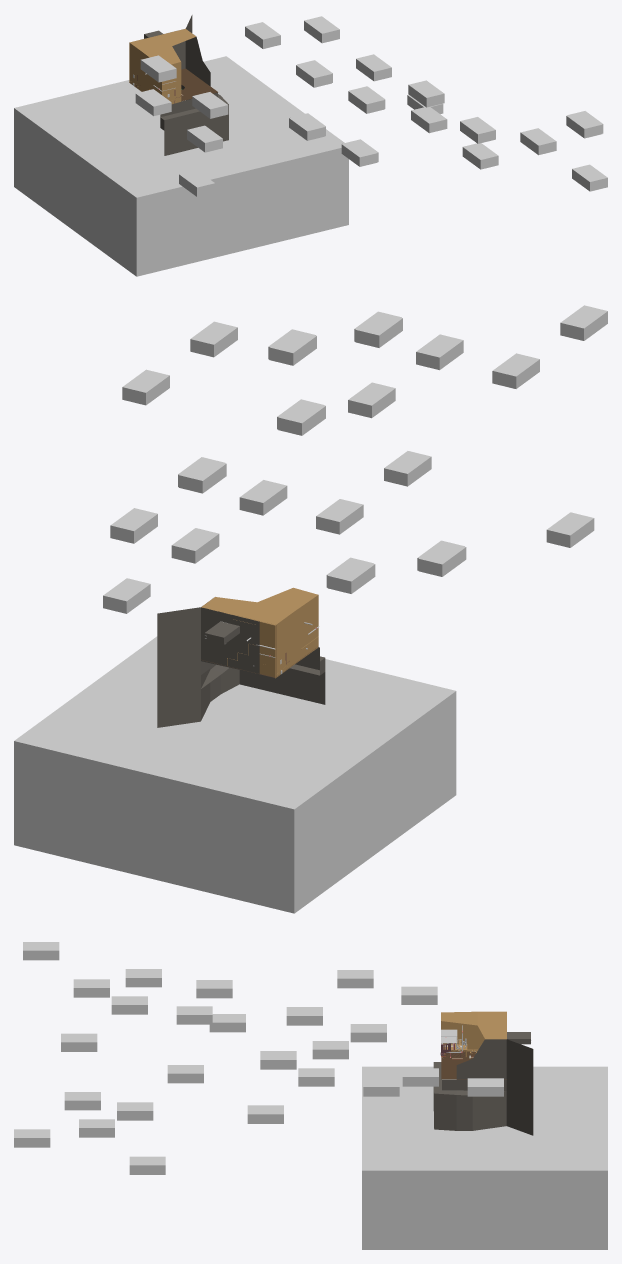
File: thebigroom.fbx
3 renders of one model, top to bottom at view 1: azimuth 30°, elevation 25°; view 2: azimuth 150°, elevation 25°; view 3: azimuth 270°, elevation 25°, orthographic. The views are drawn at different scales.
Visible parts, largest first — view 1: Cube.159, Plane.010, Plane.011, Cube.249, Cube.233, Cube.241, Cube.255, Cube.171, Cube.236, Cube.245, Cube.251, Cube.253 (+11 smaller); view 2: Cube.159, Plane.010, Plane.011, Cube.235, Cube.234, Cube.240, Cube.171, Cube.241, Cube.244, Cube.247, Cube.243, Cube.245 (+11 smaller); view 3: Cube.159, Plane.010, Plane.011, Cube.171, Cube.235, Cube.237, Cube.238, Cube.239, Cube.240, Cube.241, Cube.242, Cube.243 (+17 smaller).
Boxes of the visible parts, x1,y1,x2,y2 form: Cube.159: (14, 56, 348, 276); Plane.010: (144, 15, 228, 155); Plane.011: (129, 28, 195, 104); Cube.249: (566, 111, 602, 138); Cube.233: (192, 92, 228, 118); Cube.241: (135, 89, 171, 116); Cube.255: (408, 80, 444, 107); Cube.171: (140, 55, 176, 82); Cube.236: (289, 114, 325, 140); Cube.245: (520, 128, 556, 155); Cube.251: (348, 87, 384, 113); Cube.253: (341, 140, 377, 166); Cube.159: (14, 636, 456, 913); Plane.010: (157, 598, 325, 727); Plane.011: (201, 587, 318, 678); Cube.235: (171, 528, 219, 563); Cube.234: (239, 480, 287, 515); Cube.240: (546, 512, 594, 547); Cube.171: (327, 558, 375, 593); Cube.241: (418, 541, 466, 576); Cube.244: (110, 508, 157, 543); Cube.247: (278, 400, 325, 435); Cube.243: (103, 578, 150, 613); Cube.245: (269, 330, 316, 365); Cube.159: (362, 1066, 607, 1249); Plane.010: (433, 1032, 533, 1135); Plane.011: (441, 1011, 506, 1051); Cube.171: (401, 986, 437, 1004); Cube.235: (363, 1078, 399, 1096); Cube.237: (260, 1051, 296, 1069); Cube.238: (298, 1068, 334, 1086); Cube.239: (247, 1105, 283, 1123); Cube.240: (196, 980, 232, 998); Cube.241: (337, 970, 373, 988); Cube.242: (286, 1007, 322, 1025); Cube.243: (467, 1078, 503, 1096).
Size of what is drawn, in the model's own units: 91974 by 54496 by 126527.
